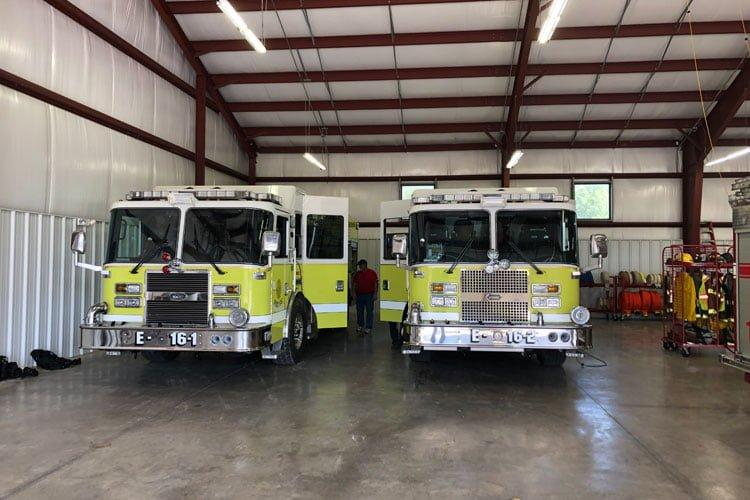firetruck_off: (68, 182, 352, 369), (380, 188, 608, 373)
